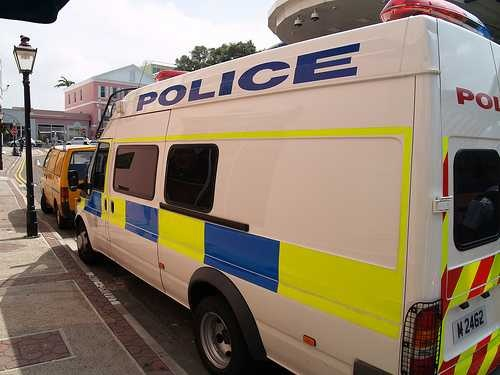Police Van: (76, 0, 500, 374)
